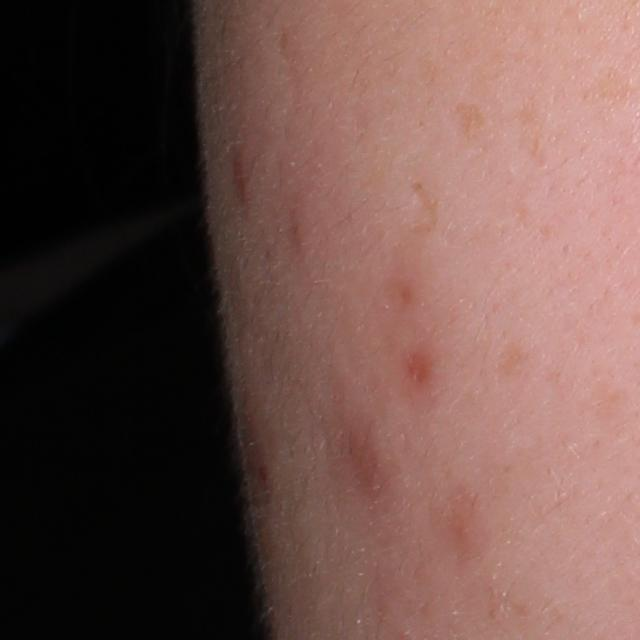melasma: (510, 98, 549, 168), (411, 180, 446, 239), (450, 99, 485, 138)
papule: (227, 146, 251, 196)
